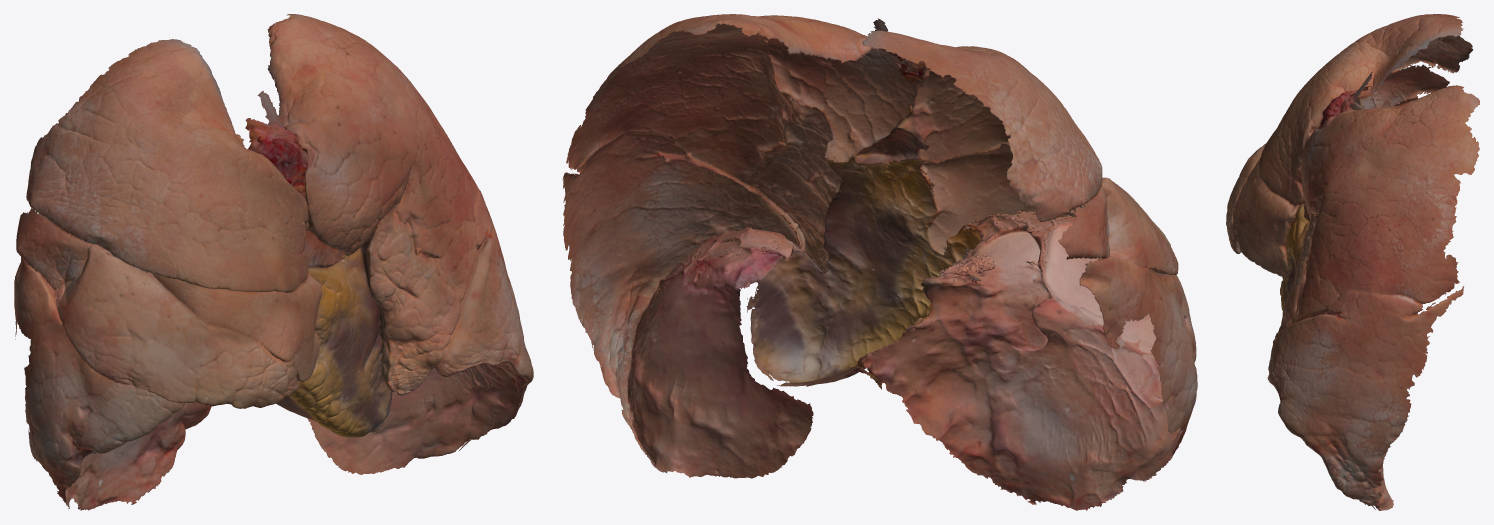
The model's file is lungs.glb.
3 renders of one model, left to right at view 1: azimuth 30°, elevation 25°; view 2: azimuth 150°, elevation 25°; view 3: azimuth 270°, elevation 25°, orthographic. The views are drawn at different scales.
Visible parts, largest first — view 1: Object_5, Object_6, Object_4, Object_3, Object_2; view 2: Object_4, Object_5, Object_6, Object_3, Object_2; view 3: Object_5, Object_6, Object_4, Object_3, Object_2.
Boxes of the visible parts, x1,y1,x2,y2 form: Object_5: [51, 14, 509, 422]; Object_6: [24, 144, 533, 504]; Object_4: [20, 48, 533, 510]; Object_3: [14, 118, 533, 460]; Object_2: [16, 158, 514, 450]; Object_4: [571, 18, 1181, 510]; Object_5: [562, 14, 1124, 362]; Object_6: [563, 42, 1197, 478]; Object_3: [572, 47, 1194, 454]; Object_2: [588, 38, 1145, 435]; Object_5: [1226, 14, 1479, 366]; Object_6: [1262, 56, 1429, 510]; Object_4: [1263, 16, 1473, 456]; Object_3: [1239, 64, 1449, 510]; Object_2: [1262, 89, 1422, 509].
Size of the model in its own units: 245 by 216 by 128.
1 material, 1 textured.
